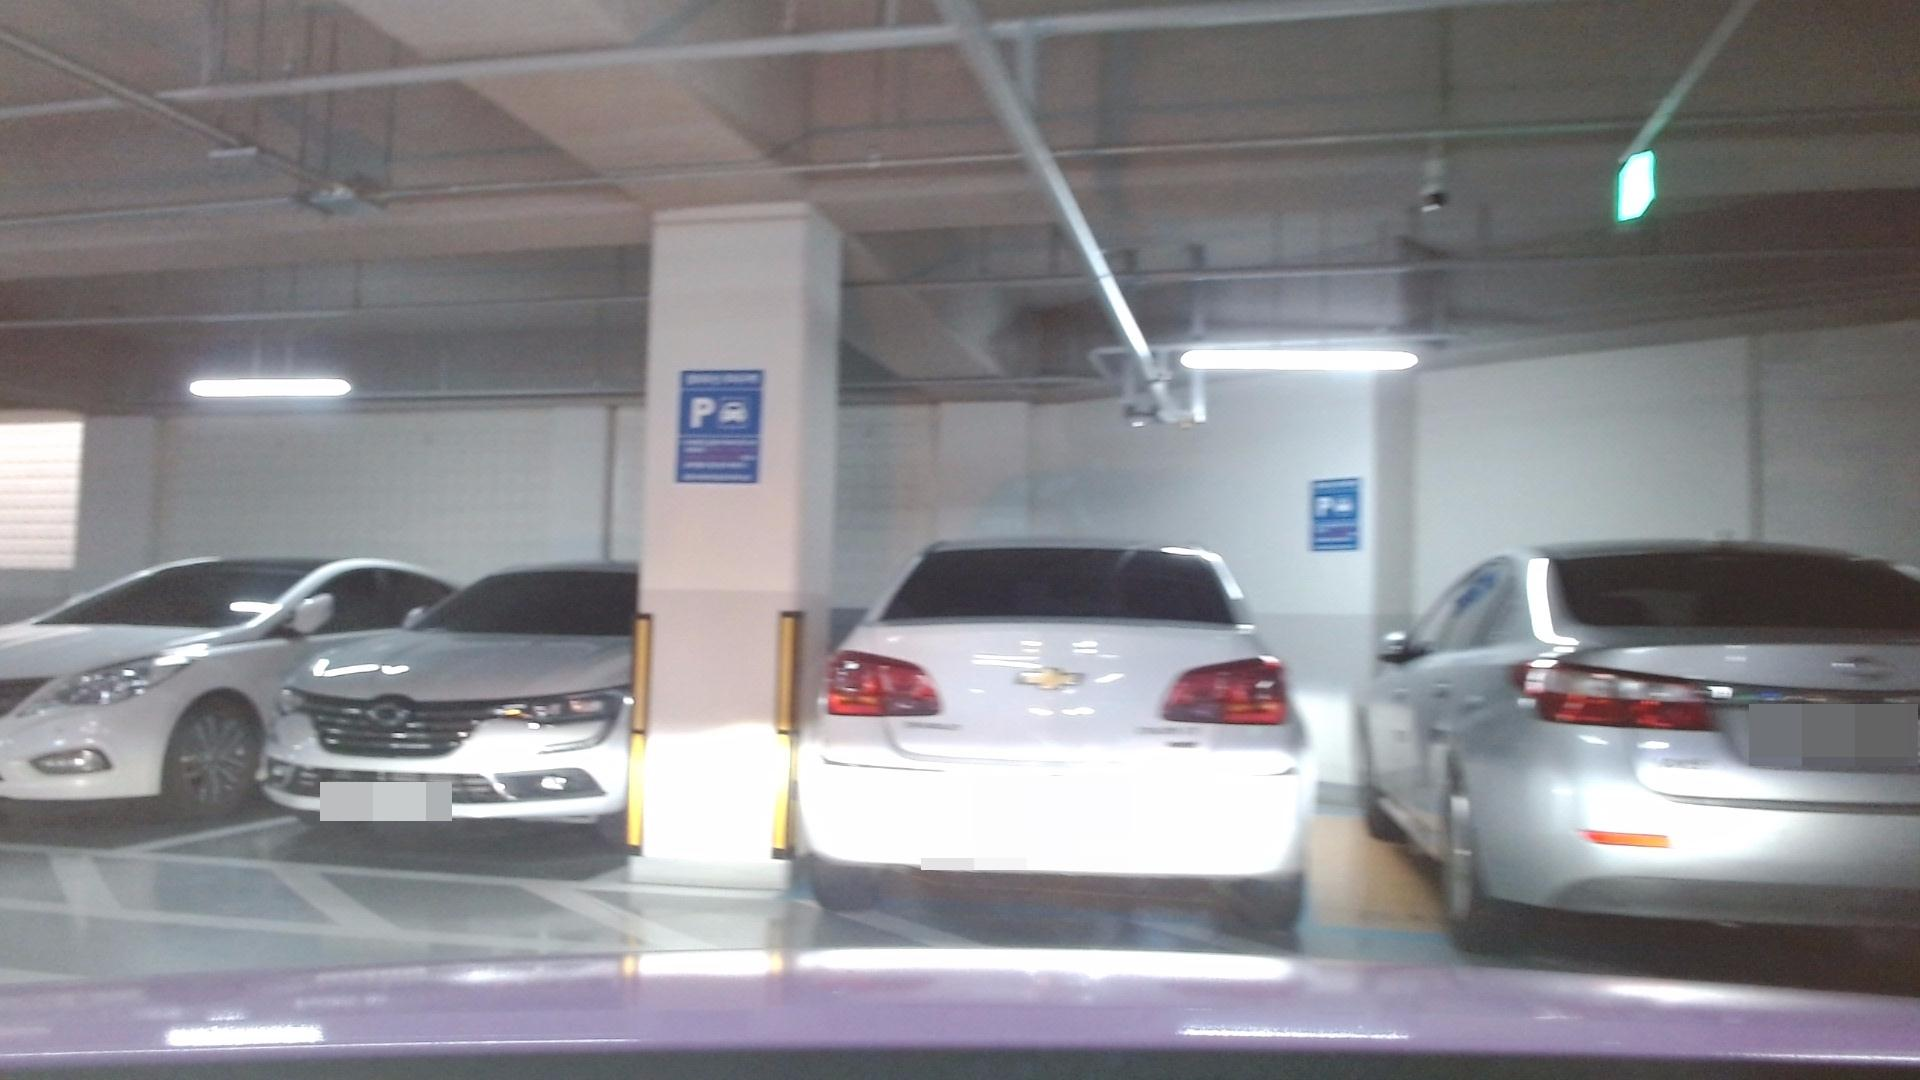occupied: (1355, 535, 1920, 970), (800, 540, 1315, 945), (275, 555, 645, 860), (0, 535, 315, 855)
